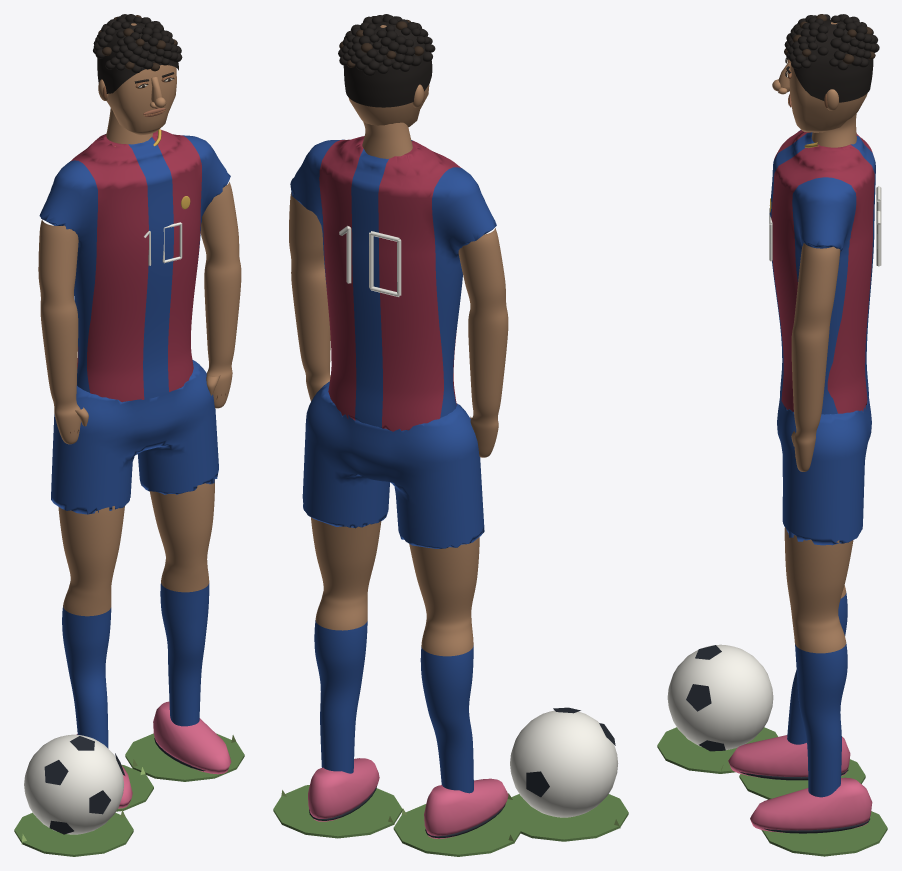
File: yamal.glb
3 views of the same model, side by side, from view 1: azimuth 30°, elevation 25°; view 2: azimuth 150°, elevation 25°; view 3: azimuth 270°, elevation 25° (orthographic). The views are drawn at different scales.
Visible parts, largest first — view 1: jersey_burgundy, shorts_blue, arms_brown, jersey_blue, legs_brown, legs_blue, football_white, turf_grass, boots_pink, curls_blackHair, head_brown, football_panels_ink (+3 smaller); view 2: jersey_burgundy, shorts_blue, jersey_blue, arms_brown, legs_brown, legs_blue, turf_grass, football_white, boots_pink, curls_blackHair, hair_cap_blackHair, neck_brown (+3 smaller); view 3: jersey_burgundy, shorts_blue, football_white, jersey_blue, boots_pink, arms_brown, legs_blue, turf_grass, legs_brown, curls_blackHair, hair_cap_blackHair, head_brown (+5 smaller).
Boxes of the visible parts, x1,y1,x2,y2 form: jersey_burgundy: [70, 129, 201, 402]; shorts_blue: [51, 359, 218, 514]; arms_brown: [38, 182, 241, 444]; jersey_blue: [39, 135, 230, 399]; legs_brown: [58, 479, 214, 616]; legs_blue: [62, 583, 209, 748]; football_white: [24, 734, 123, 834]; turf_grass: [14, 733, 244, 856]; boots_pink: [76, 701, 231, 808]; curls_blackHair: [93, 14, 182, 73]; head_brown: [106, 23, 176, 135]; football_panels_ink: [44, 736, 125, 834]; jersey_burgundy: [319, 136, 460, 431]; shorts_blue: [302, 381, 484, 548]; jersey_blue: [290, 139, 496, 427]; arms_brown: [289, 192, 508, 457]; legs_brown: [311, 517, 479, 656]; legs_blue: [314, 620, 473, 793]; turf_grass: [273, 785, 628, 856]; football_white: [510, 710, 618, 817]; boots_pink: [308, 758, 508, 838]; curls_blackHair: [338, 14, 435, 75]; hair_cap_blackHair: [343, 21, 432, 107]; neck_brown: [362, 122, 412, 158]; jersey_burgundy: [771, 130, 874, 413]; shorts_blue: [777, 395, 871, 545]; football_white: [667, 644, 773, 749]; jersey_blue: [769, 130, 875, 414]; boots_pink: [728, 735, 872, 832]; arms_brown: [791, 243, 840, 471]; legs_blue: [787, 593, 847, 797]; turf_grass: [657, 727, 887, 856]; legs_brown: [784, 527, 853, 653]; curls_blackHair: [784, 14, 879, 70]; hair_cap_blackHair: [793, 19, 873, 102]; head_brown: [789, 22, 867, 132].
Size of the model in its own units: 0.6638 by 1.78 by 0.4724.
